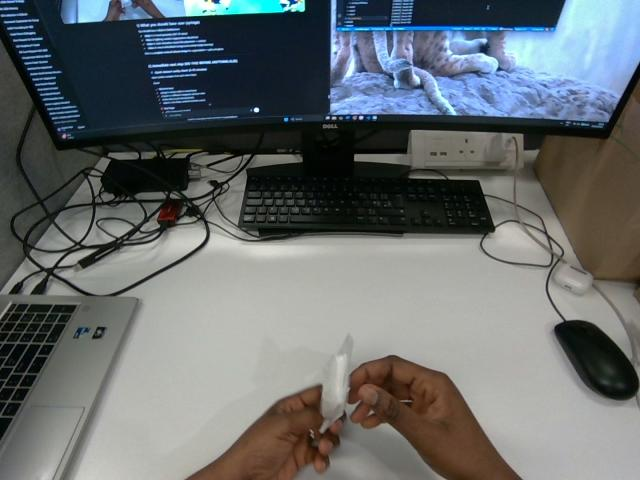gauze: (319, 335, 352, 432)
